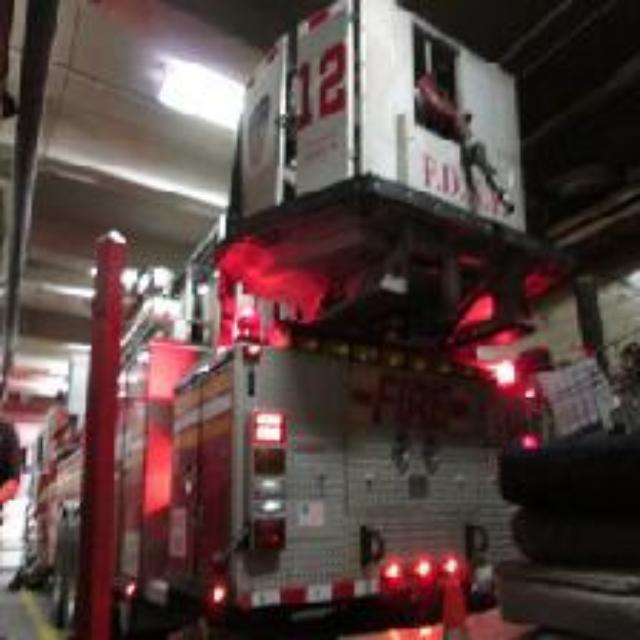emergency: (27, 112, 567, 640)
